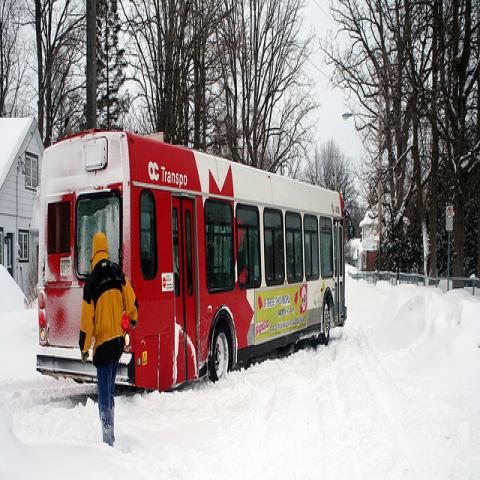bus: (37, 129, 349, 390)
